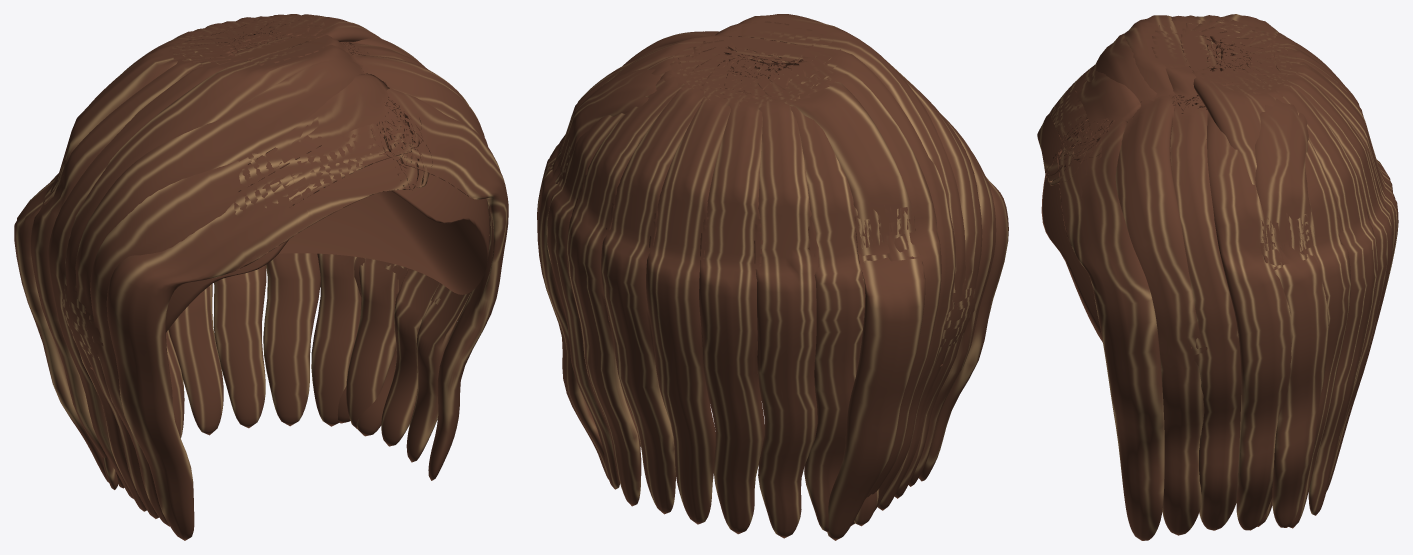
File: Highlights-a8a5eb3fef03252-hair.glb
The picture shows the model from 3 angles, left to right: view 1: azimuth 30°, elevation 25°; view 2: azimuth 150°, elevation 25°; view 3: azimuth 270°, elevation 25°; orthographic projection. The views are drawn at different scales.
Visible parts, largest first — view 1: 226 hair / Hair / sculpted 0.004, 226 hair / Hair / sculpted 1.008, 226 hair / Hair / sculpted 2.004, 226 hair / Hair / sculpted 1.007; view 2: 226 hair / Hair / sculpted 0.004, 226 hair / Hair / sculpted 2.004, 226 hair / Hair / sculpted 1.008; view 3: 226 hair / Hair / sculpted 1.008, 226 hair / Hair / sculpted 2.004, 226 hair / Hair / sculpted 0.004, 226 hair / Hair / sculpted 1.007.
Part boxes in pixels (x1,y1,x2,y2): 226 hair / Hair / sculpted 0.004: (14, 14, 440, 540); 226 hair / Hair / sculpted 1.008: (48, 16, 508, 526); 226 hair / Hair / sculpted 2.004: (30, 14, 491, 518); 226 hair / Hair / sculpted 1.007: (90, 173, 489, 369); 226 hair / Hair / sculpted 0.004: (566, 14, 1008, 540); 226 hair / Hair / sculpted 2.004: (537, 14, 982, 531); 226 hair / Hair / sculpted 1.008: (537, 21, 996, 538); 226 hair / Hair / sculpted 1.008: (1050, 15, 1393, 540); 226 hair / Hair / sculpted 2.004: (1073, 15, 1398, 535); 226 hair / Hair / sculpted 0.004: (1037, 14, 1392, 530); 226 hair / Hair / sculpted 1.007: (1041, 175, 1102, 342).
Bounding box in the file's own units: 1.02 × 1.08 × 0.8091.
Materials: 4 (4 with a texture image).
